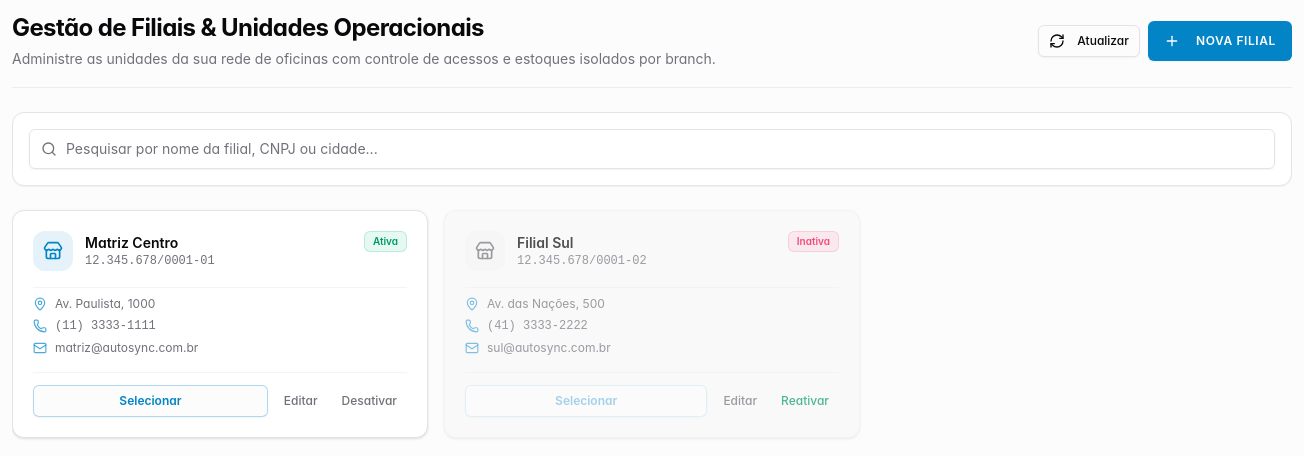
it: Branches Module (Integrated Management) › 2. should filter branches by search query
The image size is (1304, 456).
Expected: the heading "Matriz Centro" is shown, [85,233,178,253]
Type "Sul" into the field with placeholder "Pesquisar por nome da filial, CNPJ ou cidade...".
click(652, 149); type("Sul")  # box [29,129,1275,169]
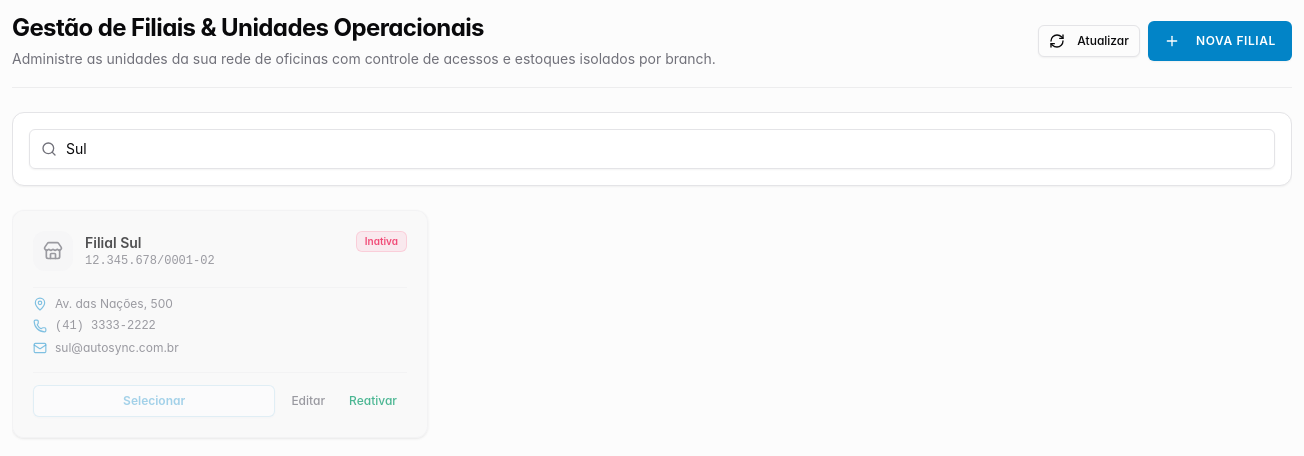
Expected: the heading "Filial Sul" is shown, [85,233,142,253]
Expected: the heading "Matriz Centro" is gone
